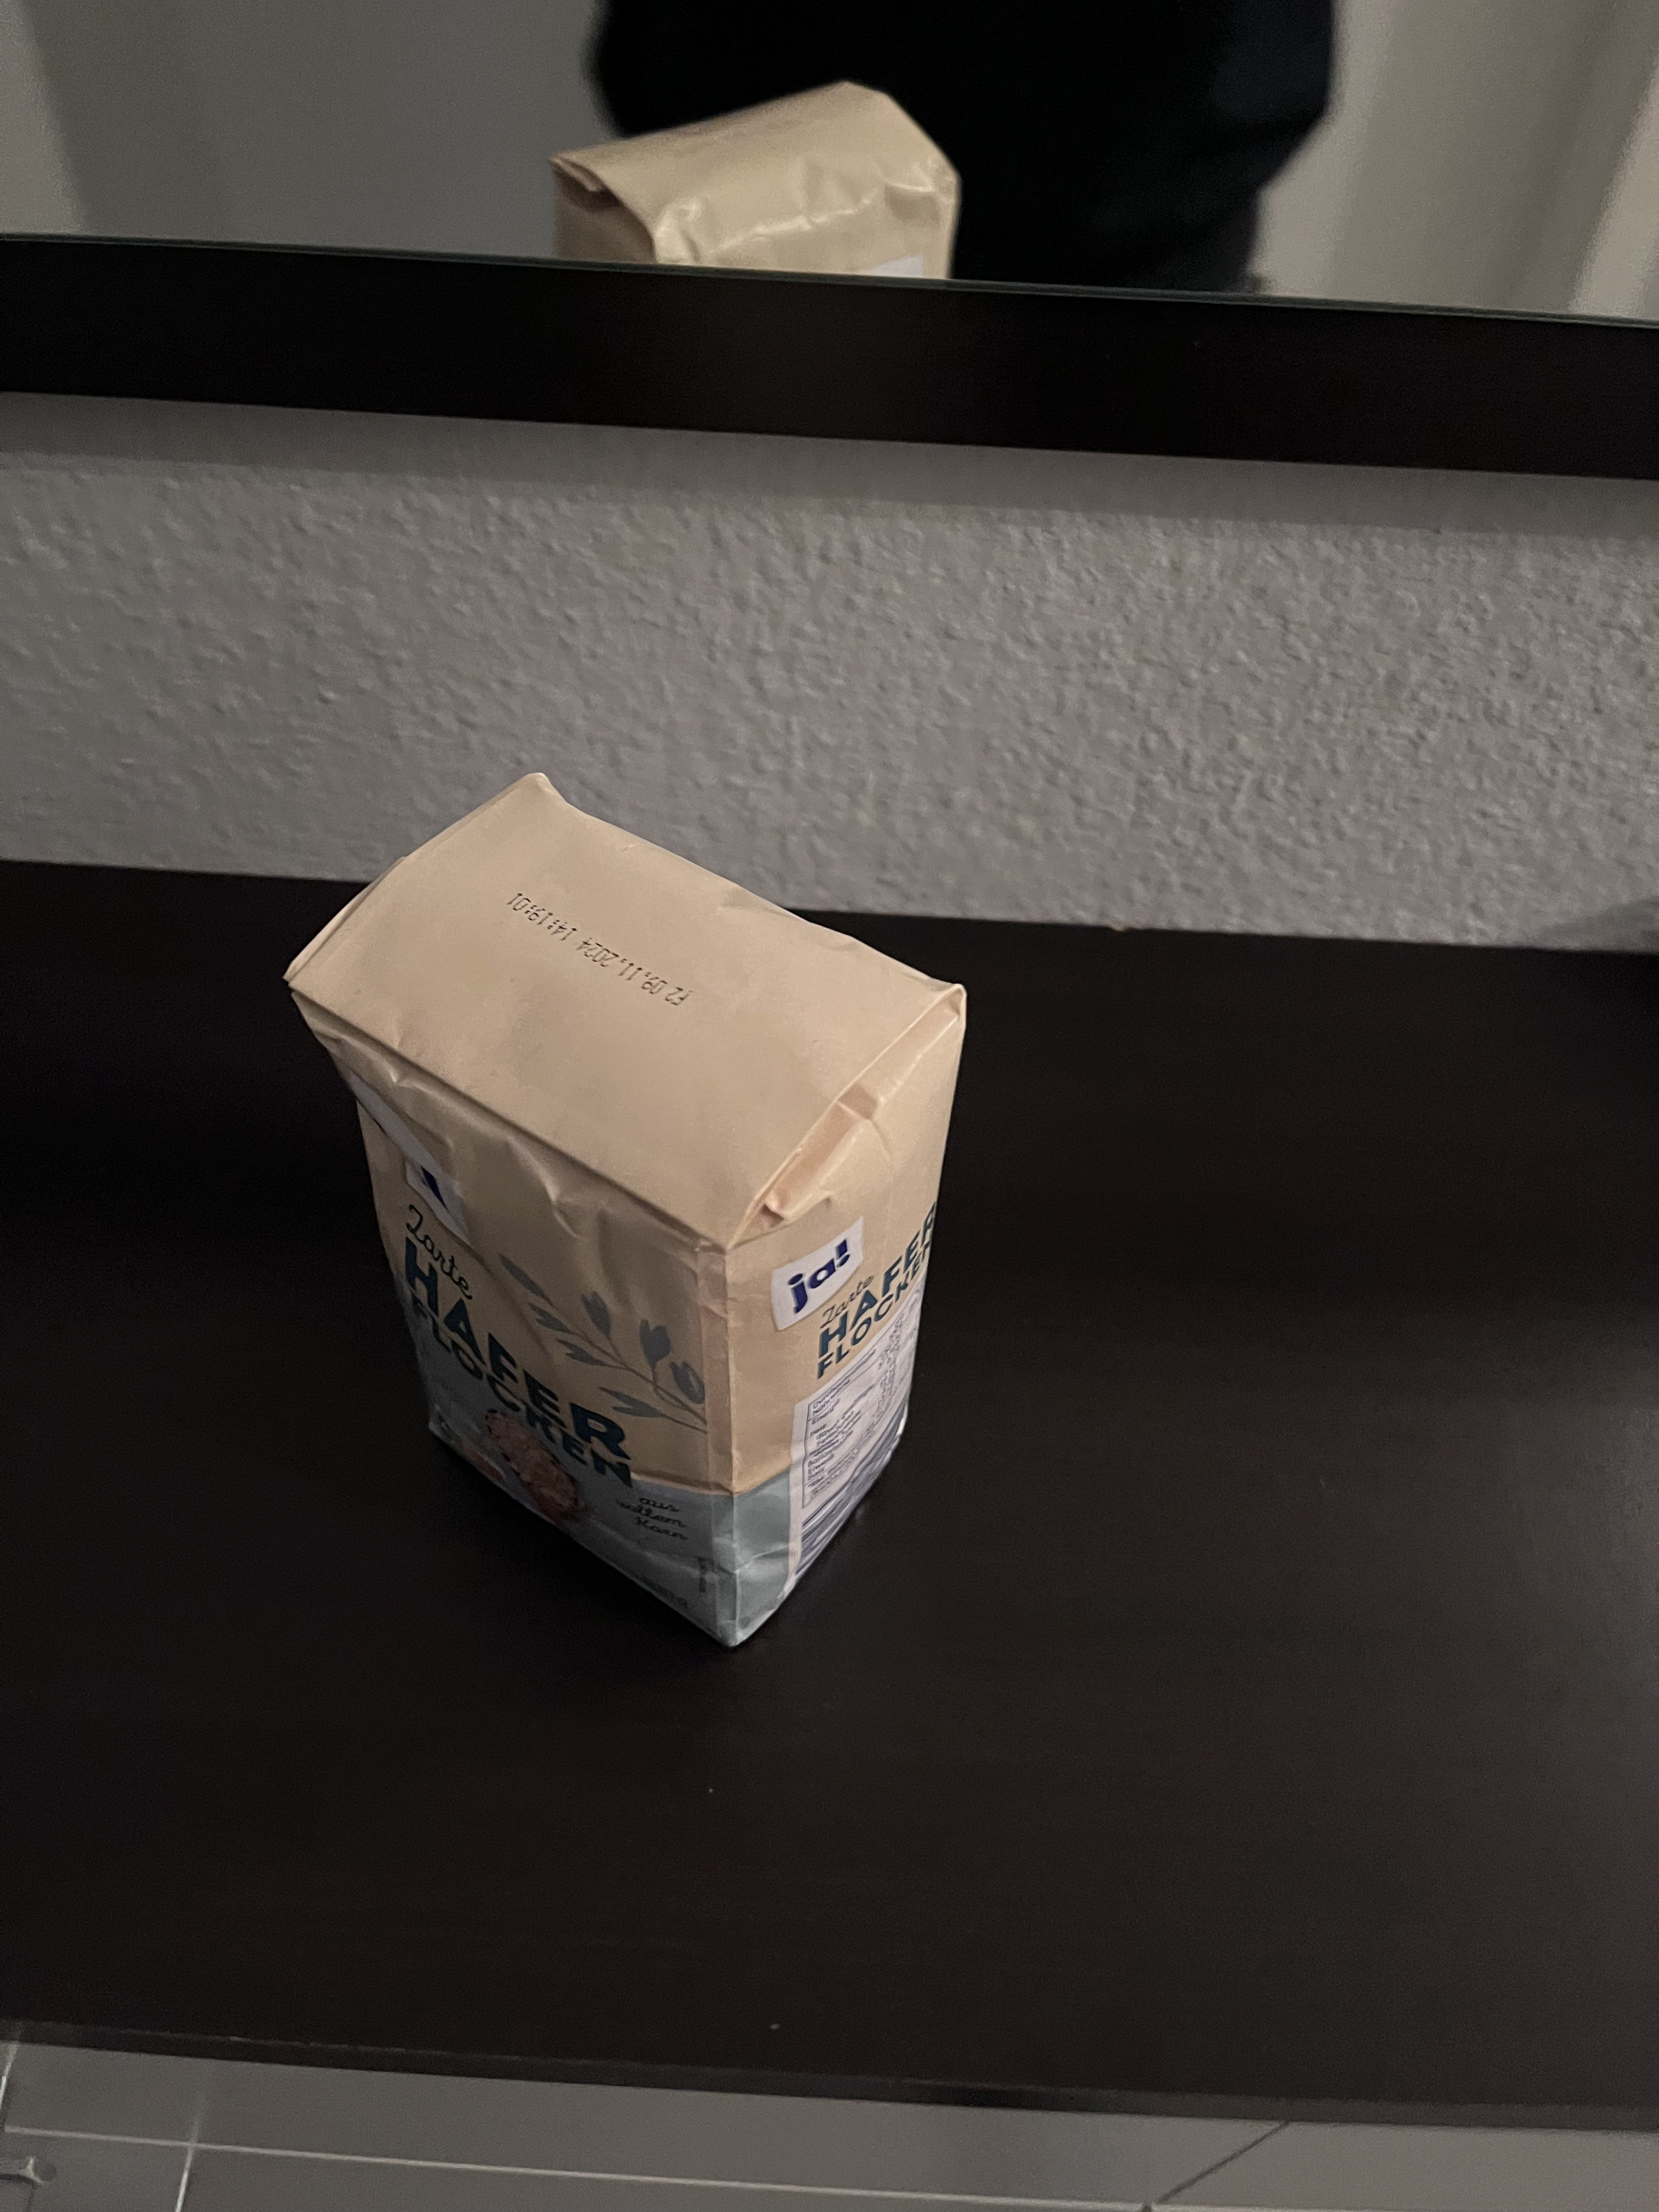haferflocken_ja: (281, 775, 976, 1649)
